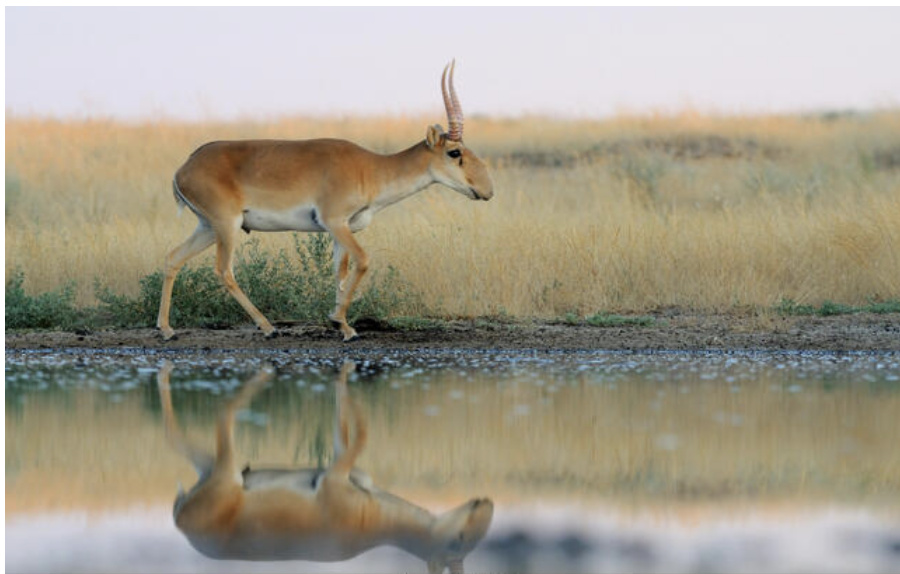saiga: (129, 55, 504, 327)
